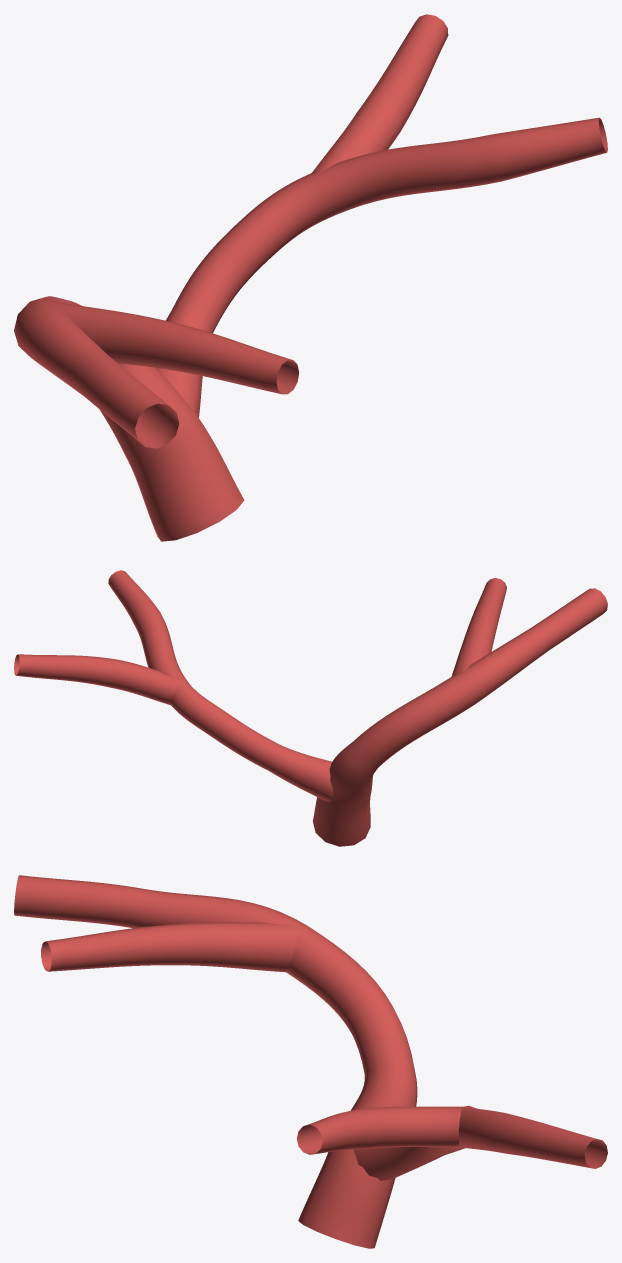
3 renders of one model, top to bottom at view 1: azimuth 30°, elevation 25°; view 2: azimuth 150°, elevation 25°; view 3: azimuth 270°, elevation 25°, orthographic. The views are drawn at different scales.
Visible parts, largest first — view 1: 左肺下叶上段动脉; view 2: 左肺下叶上段动脉; view 3: 左肺下叶上段动脉.
Part boxes in pixels (x1,y1,x2,y2): 左肺下叶上段动脉: (14,14,607,541); 左肺下叶上段动脉: (14,570,607,846); 左肺下叶上段动脉: (14,875,607,1248).
Size of the model in its own units: 0.0918 by 0.0453 by 0.0861.
